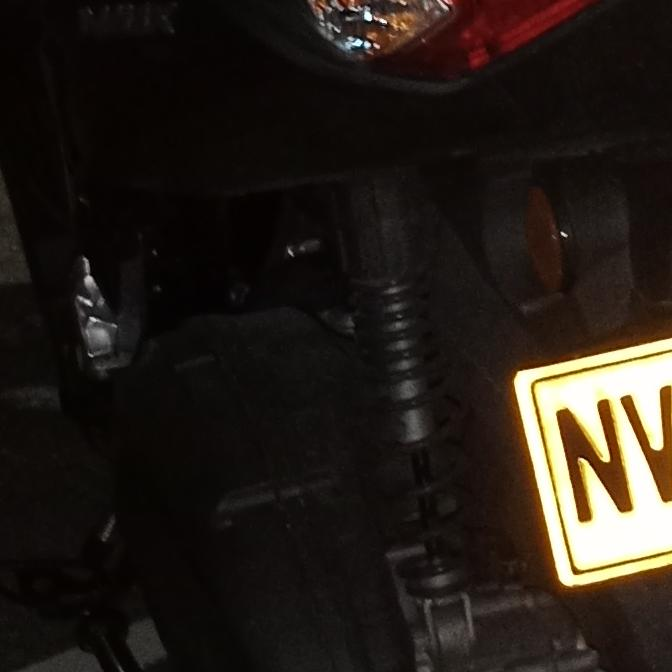plates: (521, 340, 672, 588)
